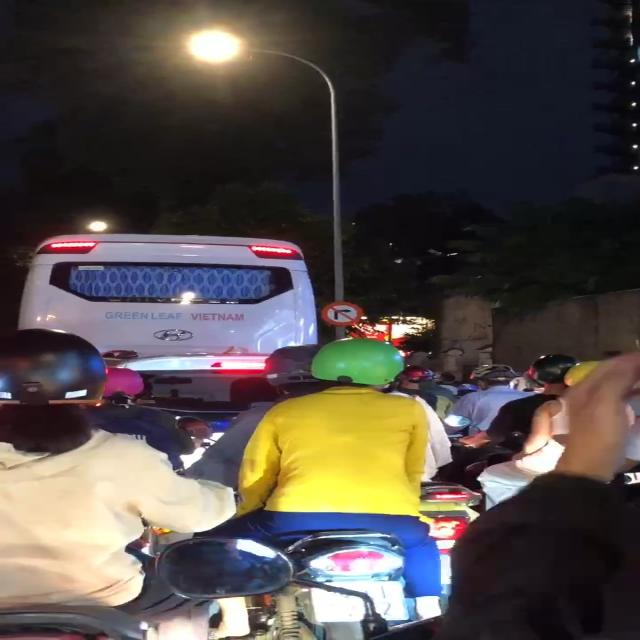Bien bao cam re phai: (318, 299, 368, 327)
